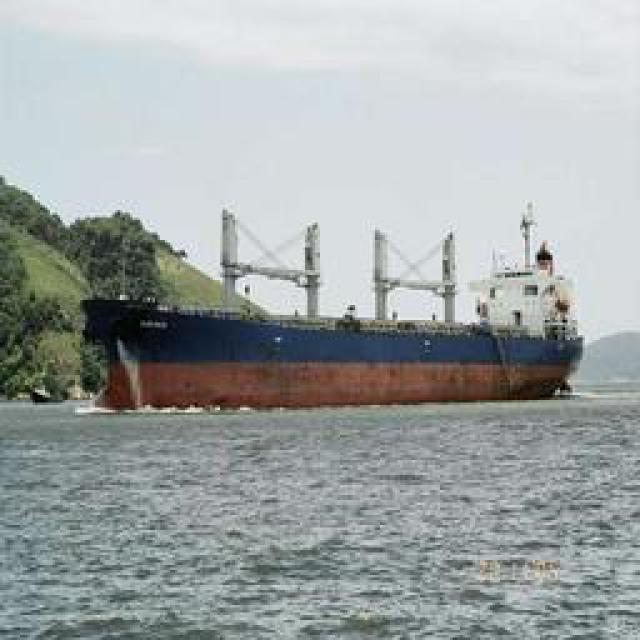Ship: (95, 294, 588, 414)
